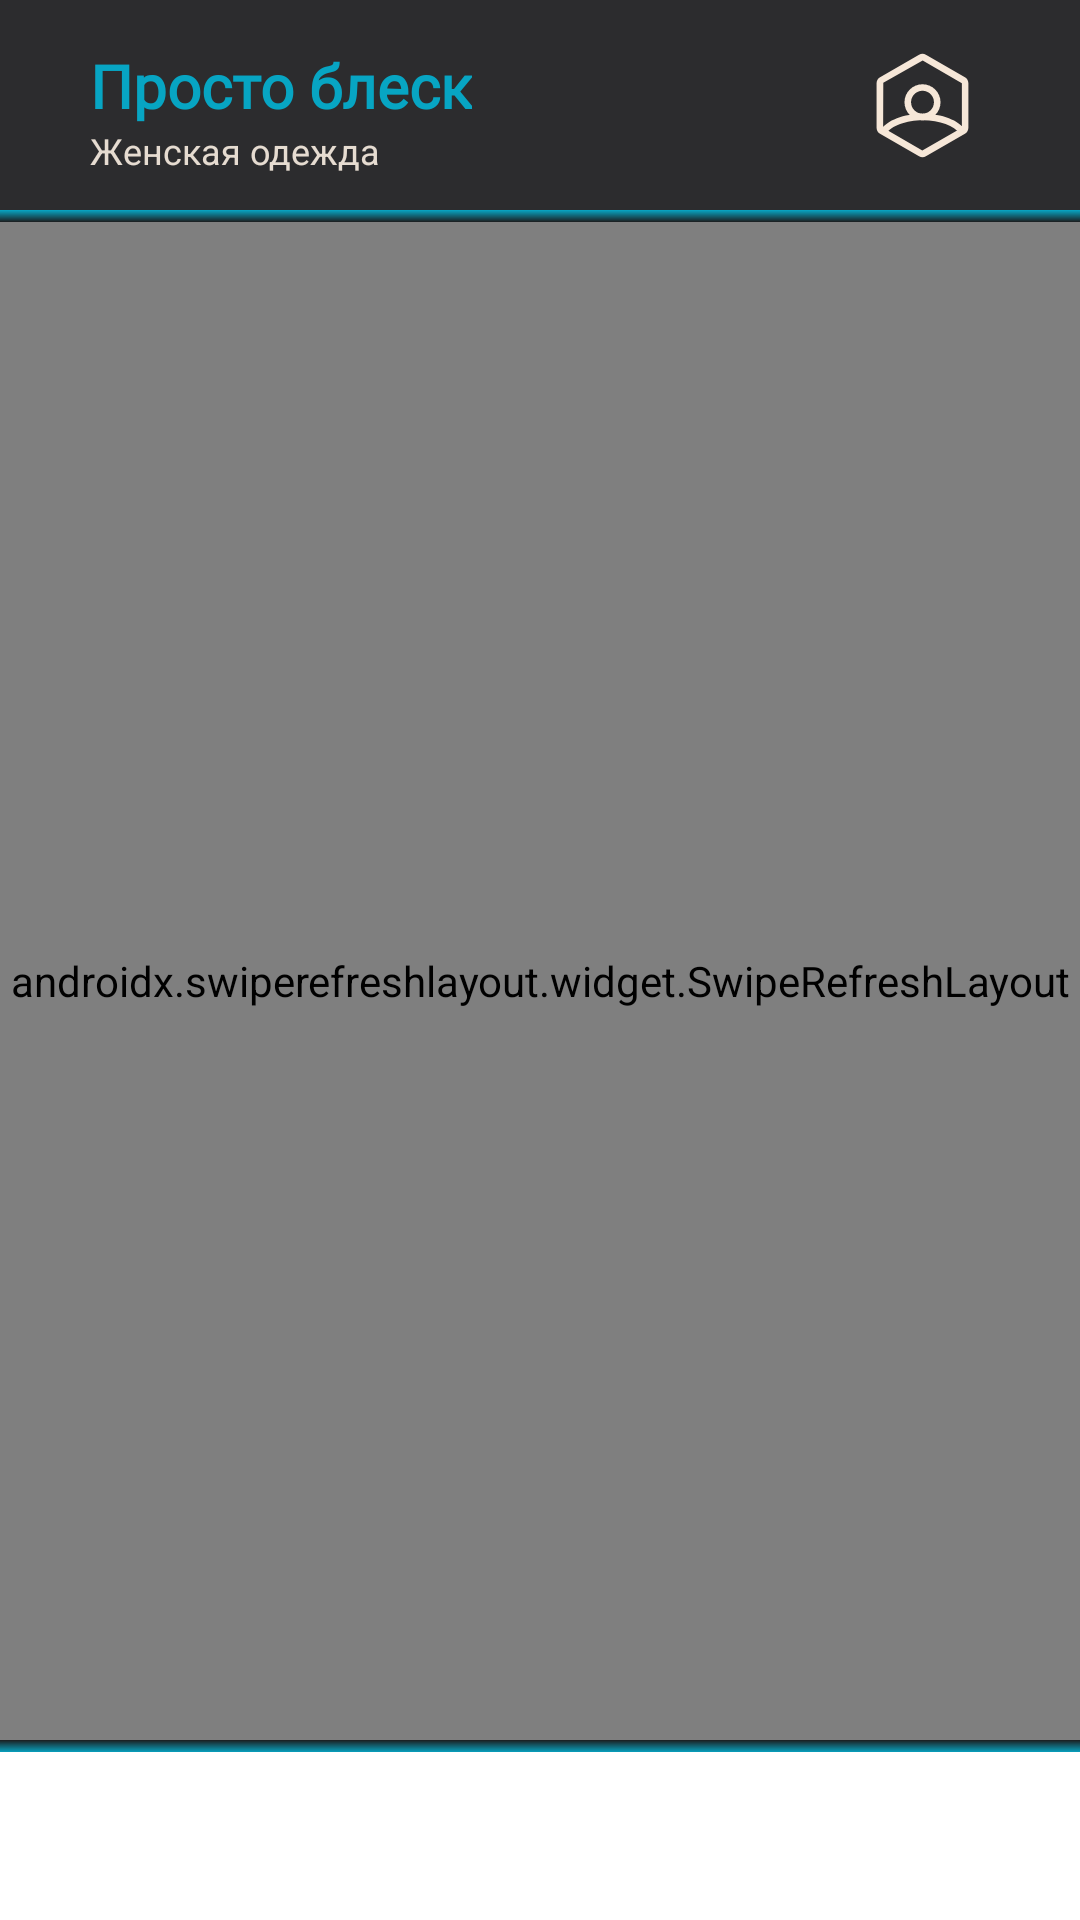

Named icons in this screenshot (1080px x 1920px) and their bounding boxes, bbox(x1, y1, x2, y2):
account: bbox(876, 53, 969, 158)
